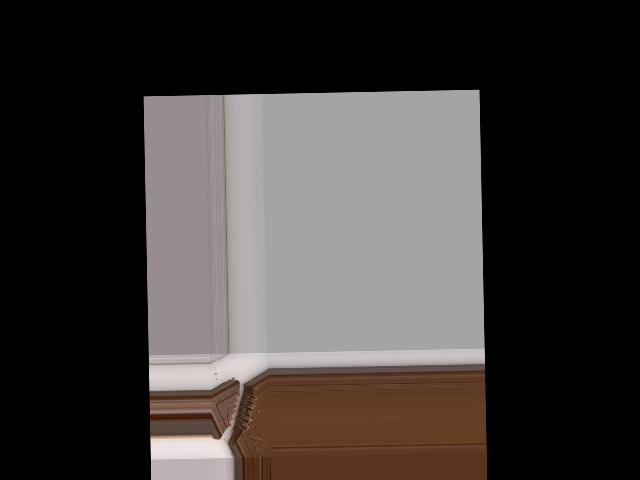chocolate: (210, 367, 269, 457)
